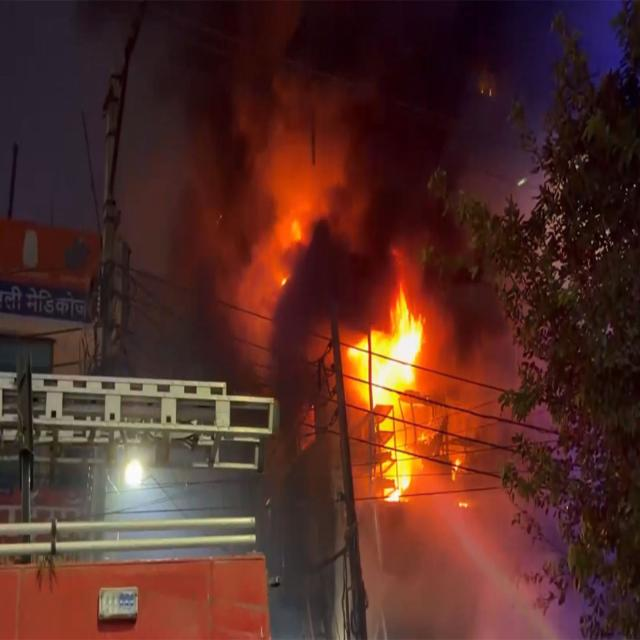fire: (349, 285, 425, 404), (379, 404, 422, 501)
